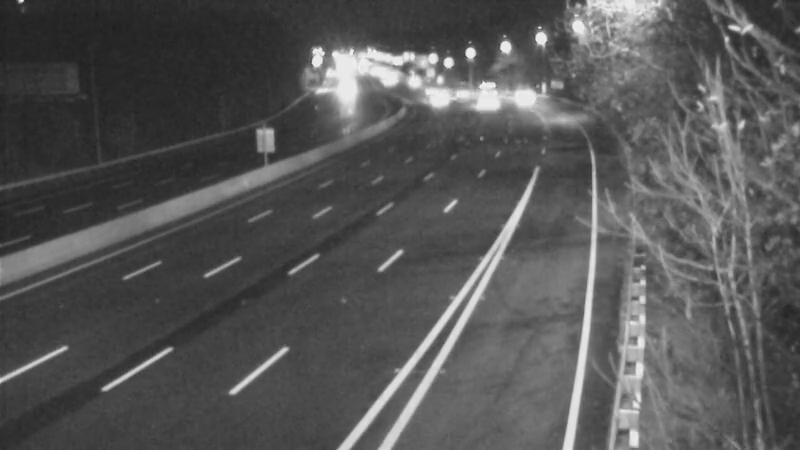vehicle: (388, 57, 438, 107), (462, 62, 512, 112), (437, 69, 487, 119), (493, 74, 543, 124), (408, 74, 458, 124), (454, 77, 504, 127)
